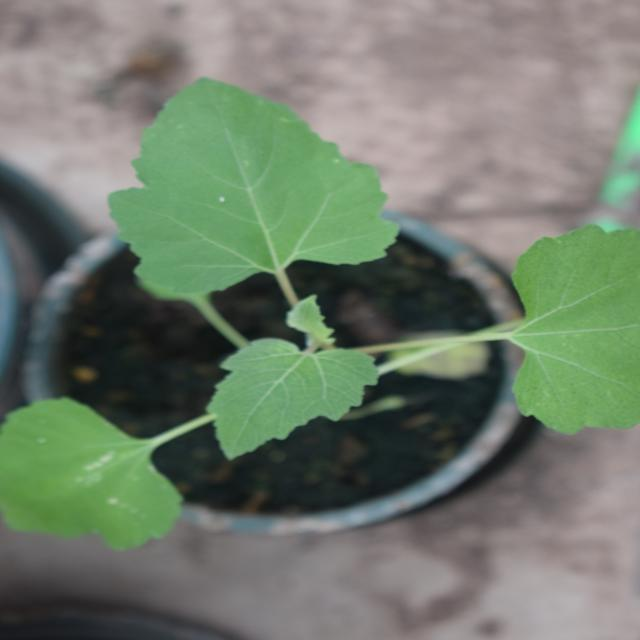cocklebur: (105, 0, 552, 624)
